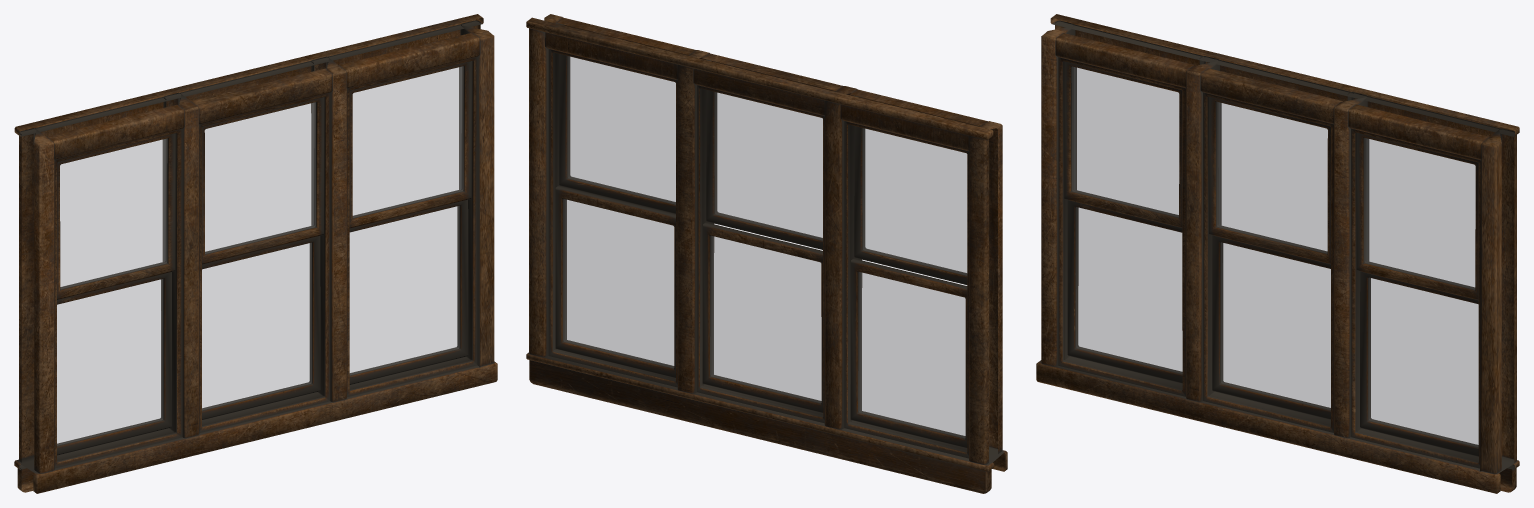
Rendered from window__wooden_4_mb.glb.
3 views of the same model, side by side, from view 1: azimuth 30°, elevation 25°; view 2: azimuth 150°, elevation 25°; view 3: azimuth 330°, elevation 25° (orthographic).
Parts seen in each view (by area): view 1: Base, Base_1; view 2: Base, Base_1; view 3: Base, Base_1.
Boxes of the visible parts, x1,y1,x2,y2 form: Base: (14, 14, 497, 493); Base_1: (57, 66, 463, 445); Base: (526, 14, 1007, 493); Base_1: (563, 56, 966, 437); Base: (1036, 14, 1519, 493); Base_1: (1072, 67, 1478, 446).
Bounding box in the file's own units: 1.72 × 1.29 × 0.1369.
2 materials, 1 textured.
